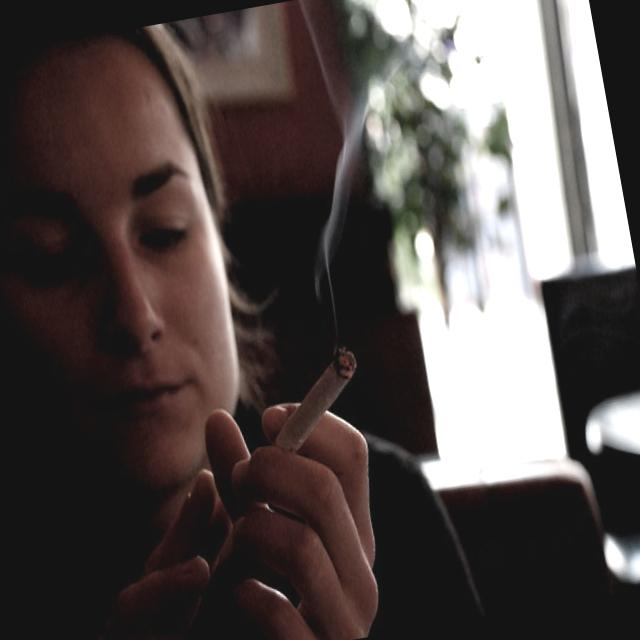smoke: (258, 346, 374, 460)
